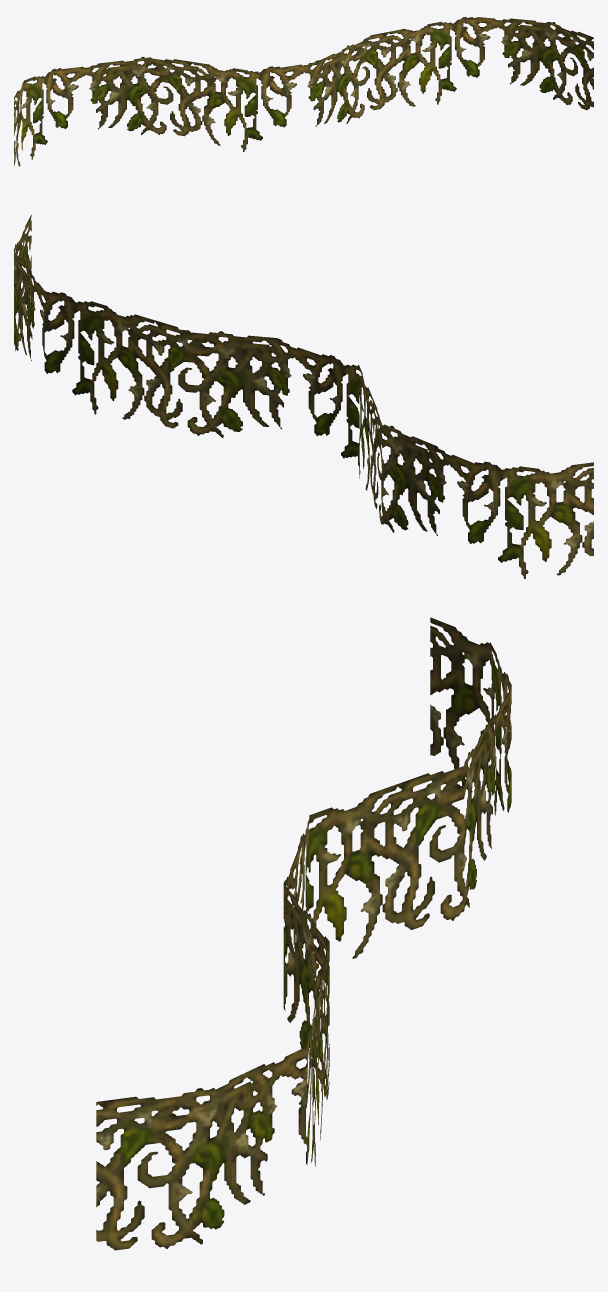
The model's file is OVERHILL_A_01_LINE122.fbx.
3 renders of one model, top to bottom at view 1: azimuth 30°, elevation 25°; view 2: azimuth 150°, elevation 25°; view 3: azimuth 270°, elevation 25°, orthographic. The views are drawn at different scales.
Parts seen in each view (by area): view 1: OVERHILL_A_01_LINE122; view 2: OVERHILL_A_01_LINE122; view 3: OVERHILL_A_01_LINE122.
Part boxes in pixels (box(x1,y1,x2,y2)): OVERHILL_A_01_LINE122: box(14, 17, 593, 166); OVERHILL_A_01_LINE122: box(14, 215, 593, 578); OVERHILL_A_01_LINE122: box(96, 617, 511, 1250).
Bounding box in the file's own units: 42193 × 7135 × 15272.
1 material, 1 textured.
